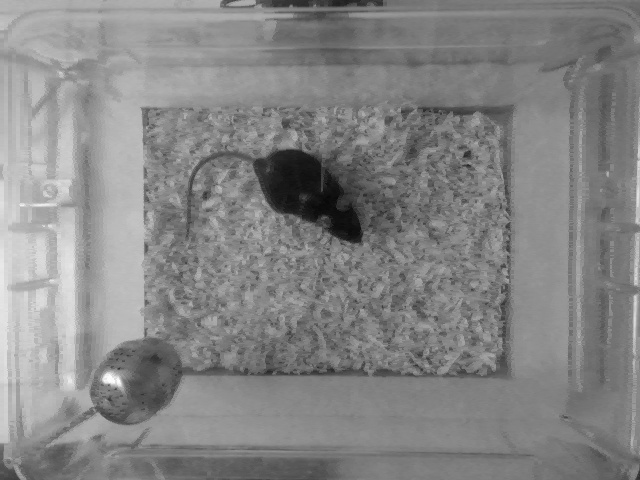mice: (180, 145, 367, 247)
